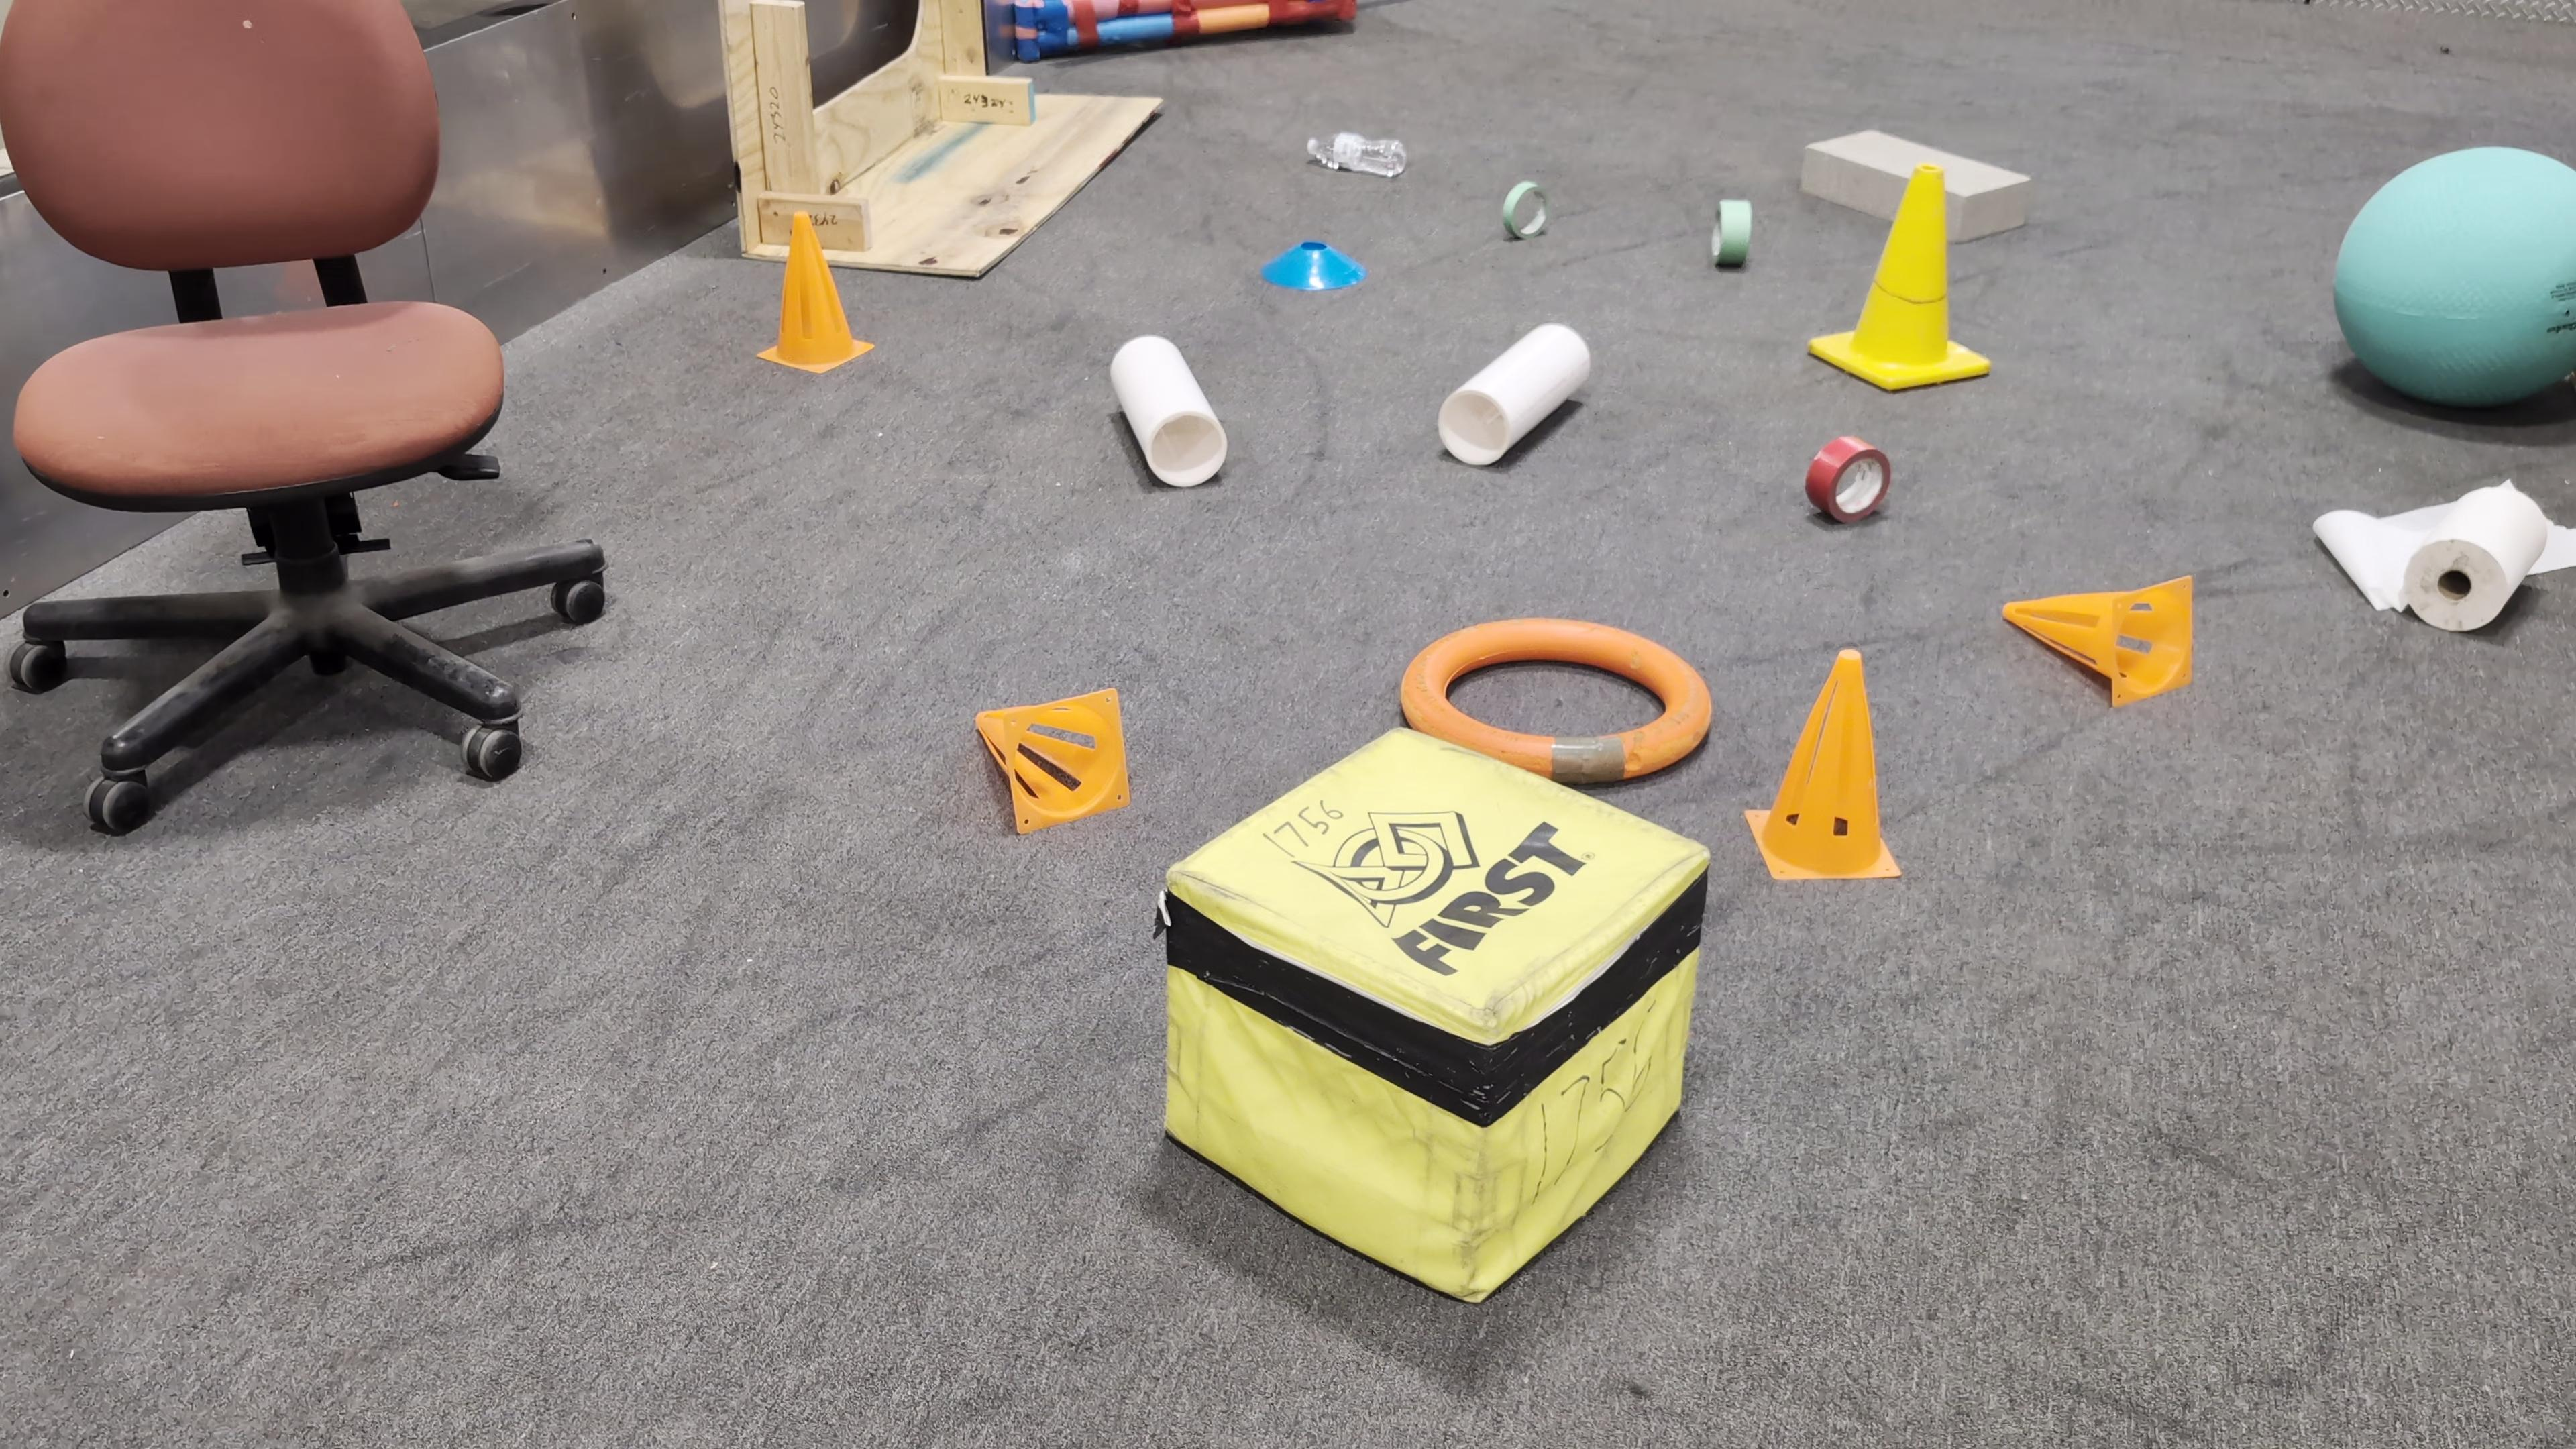coral: (1438, 324, 1591, 465), (1111, 336, 1226, 488)
